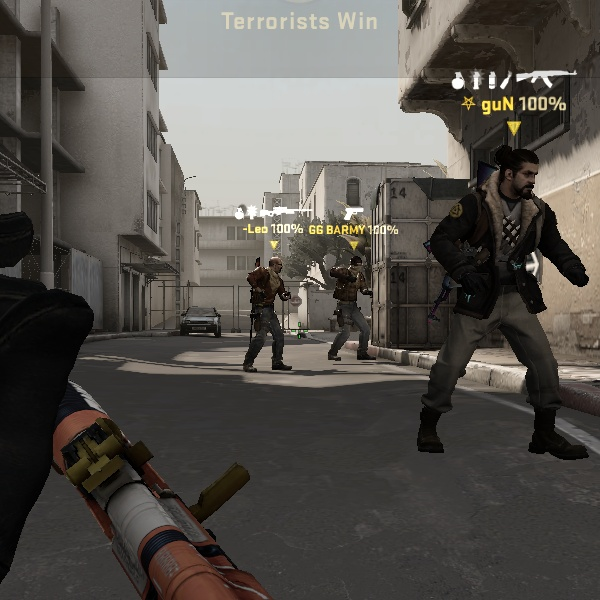t_body: (403, 133, 588, 470), (233, 251, 303, 377), (317, 255, 379, 367)
t_head: (469, 139, 550, 219)
